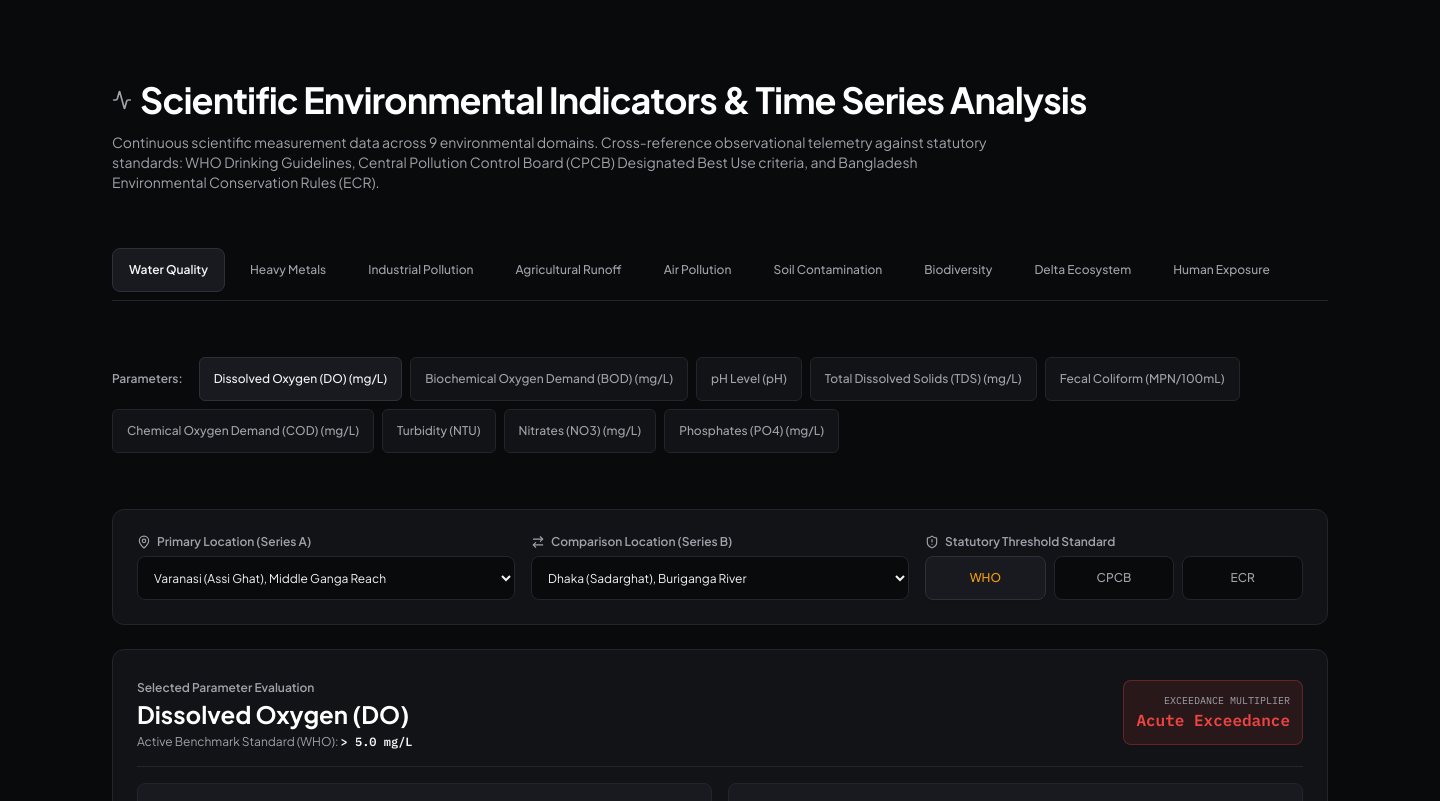
Test: Tier 2: Scientific Environmental Indicators & Visualizations › selects multi-location comparison stations and updates delta math
Expected: the dropdown labelled "Comparison Location (Series B)" is shown, top-left (531, 556), bottom-right (909, 600)
Change primary station to Kanpur
Select "Kanpur (Jajmau), Middle Ganga Reach" in the dropdown labelled "Primary Location (Series A)". click: (326, 578)
box: top-left (137, 556), bottom-right (515, 600)
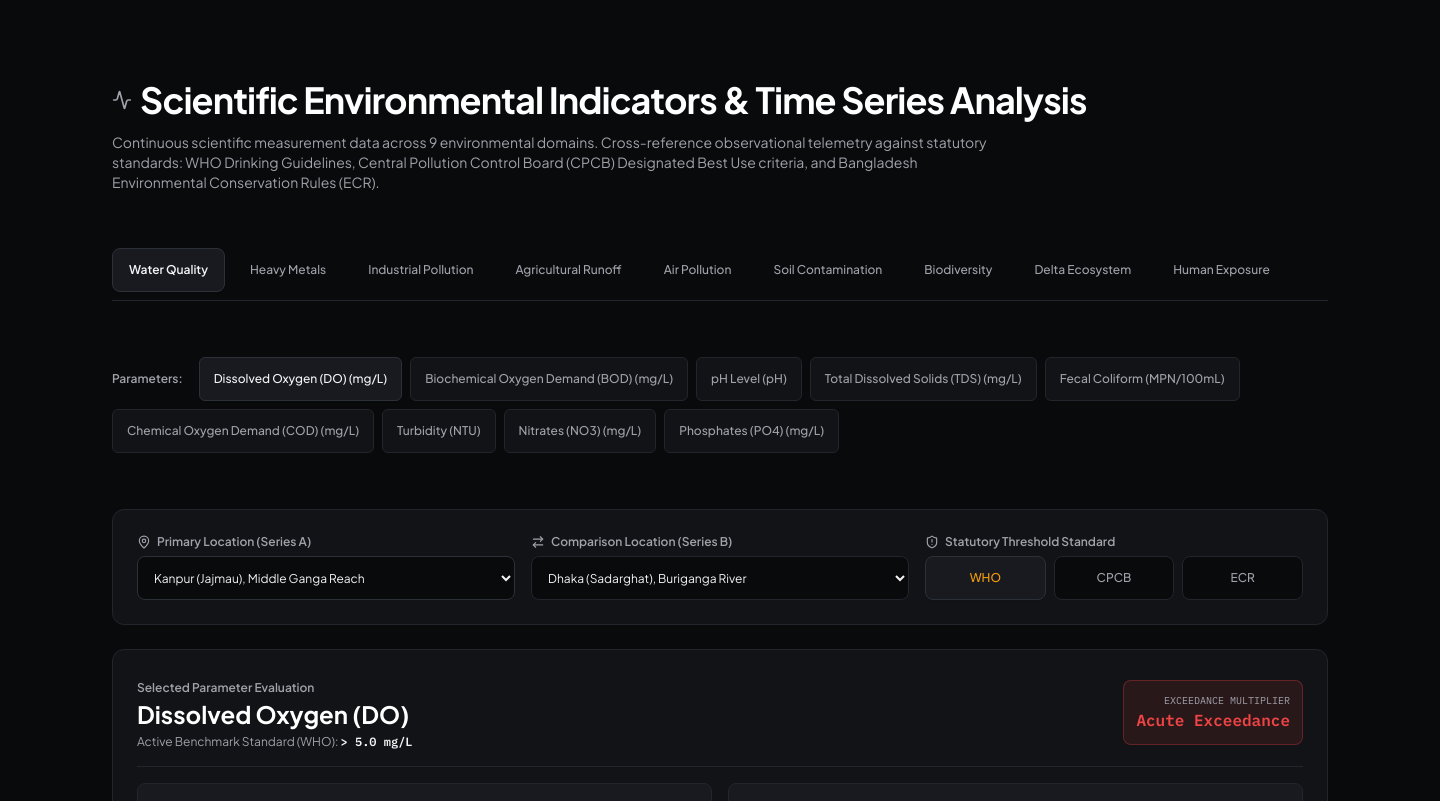
Change secondary station to Chandpur
Select "Chandpur Junction, Lower Meghna" in the dropdown labelled "Comparison Location (Series B)". click: (720, 578)
box: top-left (531, 556), bottom-right (909, 600)
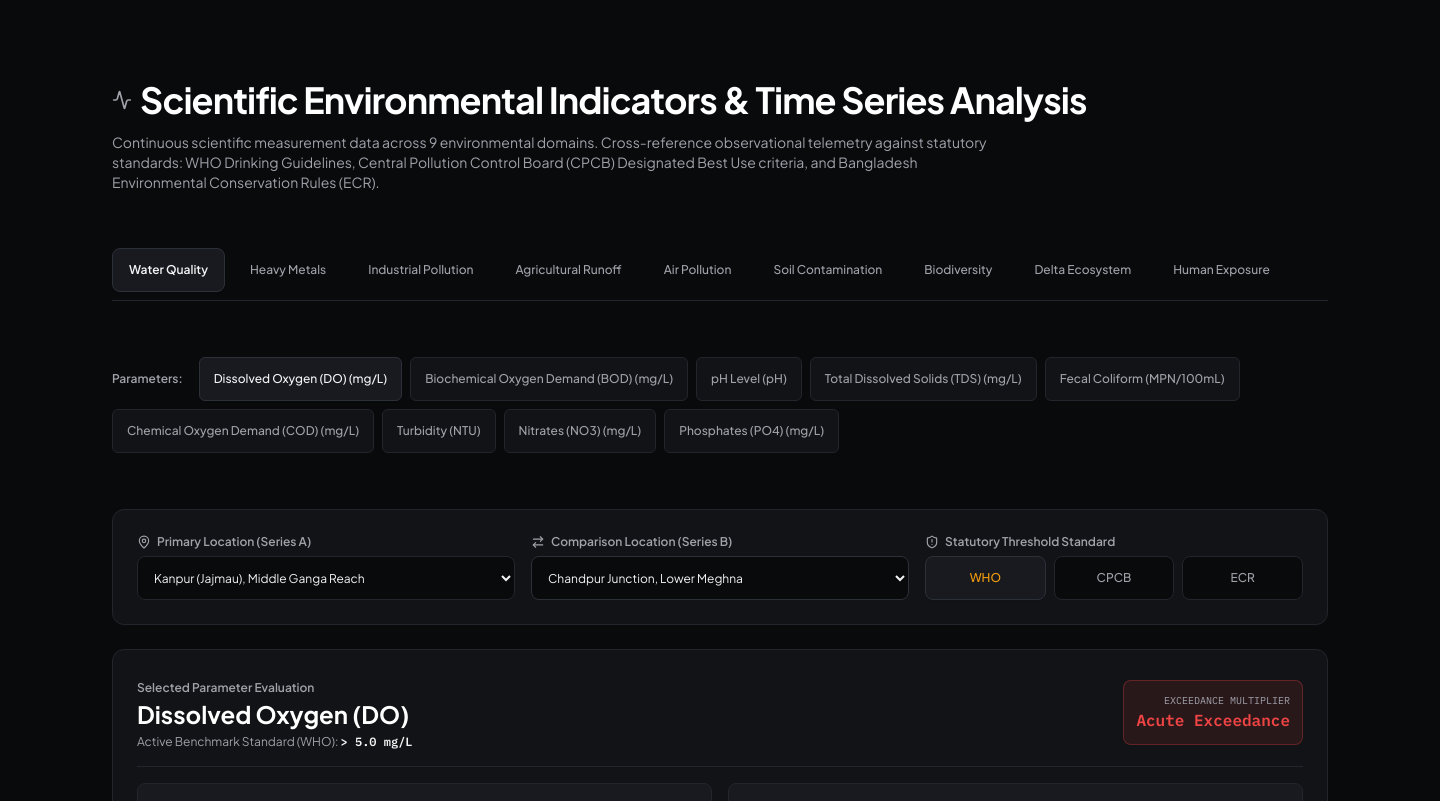
Click the button "CPCB". click: (1114, 578)
box: top-left (1054, 556), bottom-right (1174, 600)
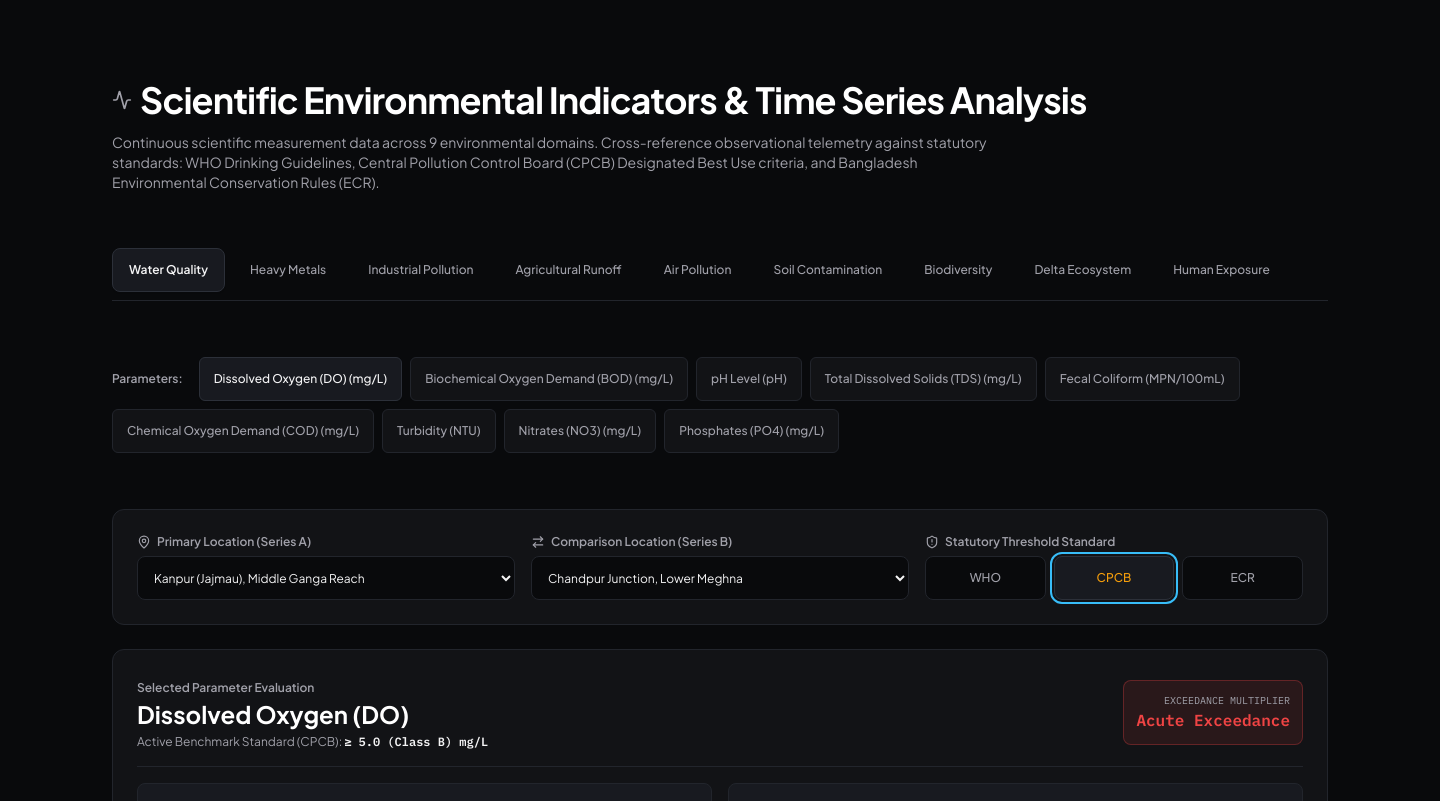
Now the button "CPCB" has class "text-accent-amber", box top-left (1054, 556), bottom-right (1174, 600)
Click the button "ECR". click: (1243, 578)
box: top-left (1182, 556), bottom-right (1303, 600)
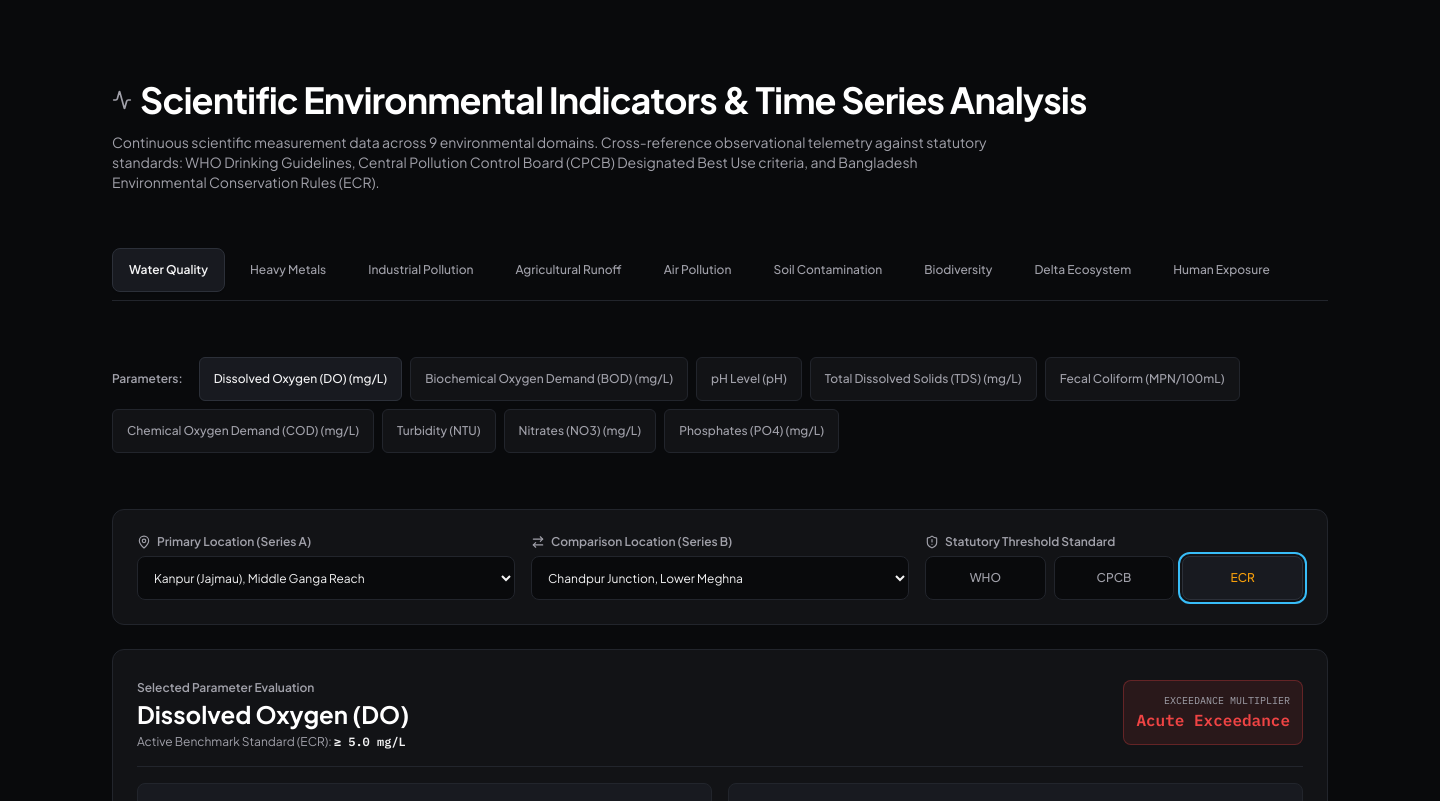
Now the button "ECR" has class "text-accent-amber", box top-left (1182, 556), bottom-right (1303, 600)
Click the button "WHO". click: (985, 578)
box: top-left (925, 556), bottom-right (1046, 600)
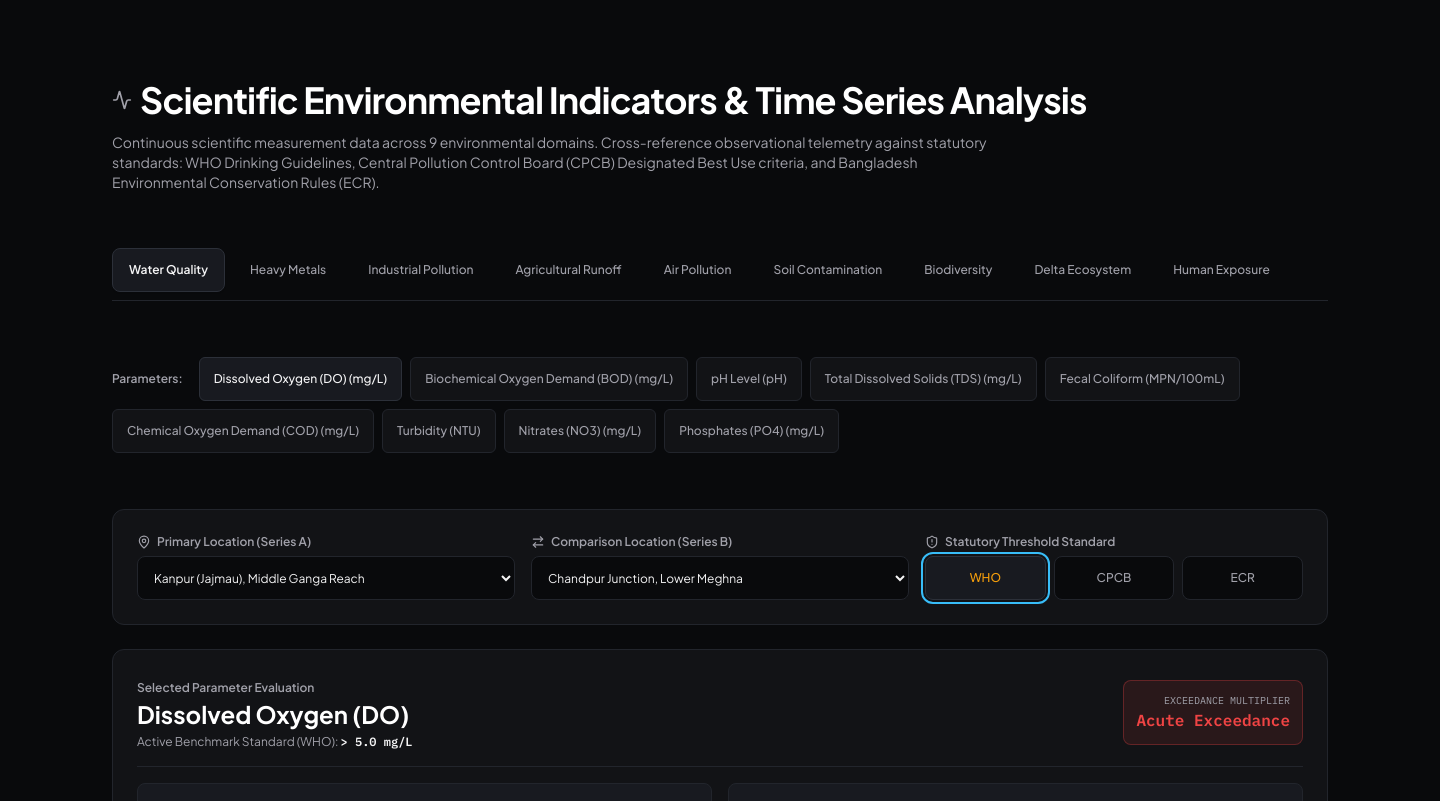
Now the button "WHO" has class "text-accent-amber", box top-left (925, 556), bottom-right (1046, 600)
